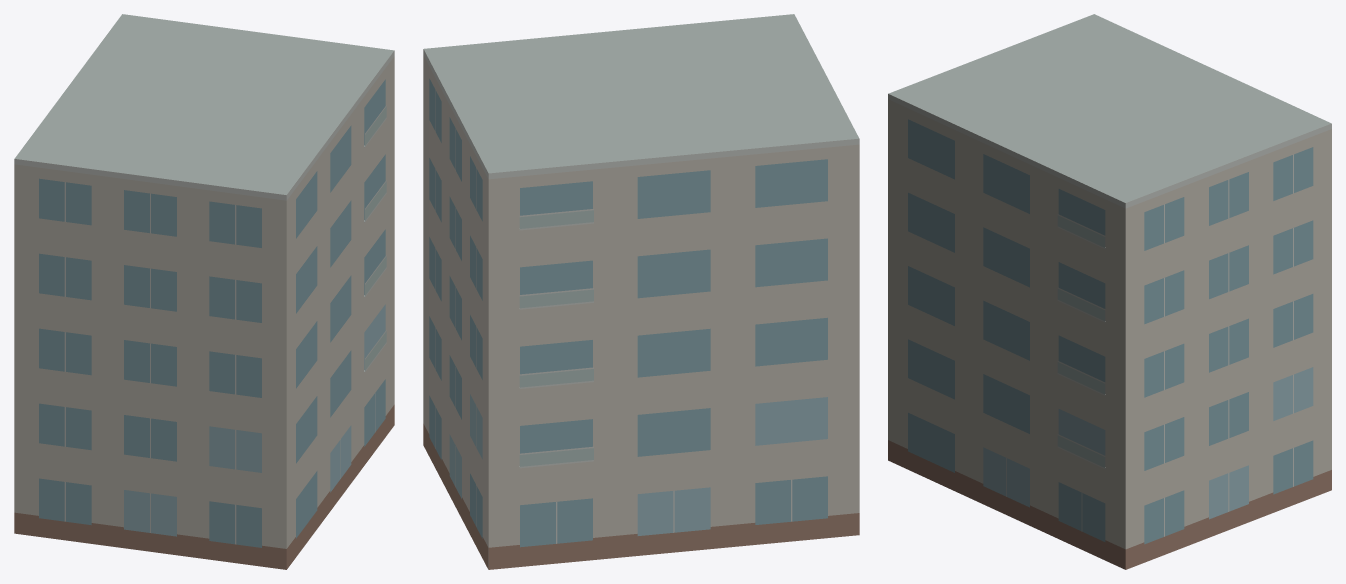
The model's file is survey-upis-32835678.glb.
3 renders of one model, left to right at view 1: azimuth 30°, elevation 25°; view 2: azimuth 150°, elevation 25°; view 3: azimuth 270°, elevation 25°, orthographic. The views are drawn at different scales.
Visible parts, largest first — view 1: survey-upis-32835678.tmp; view 2: survey-upis-32835678.tmp; view 3: survey-upis-32835678.tmp.
Part boxes in pixels (x1,y1,x2,y2): survey-upis-32835678.tmp: (14, 14, 394, 569); survey-upis-32835678.tmp: (423, 14, 859, 569); survey-upis-32835678.tmp: (888, 14, 1331, 569).
Bounding box in the file's own units: 18.15 × 16.4 × 17.99.
